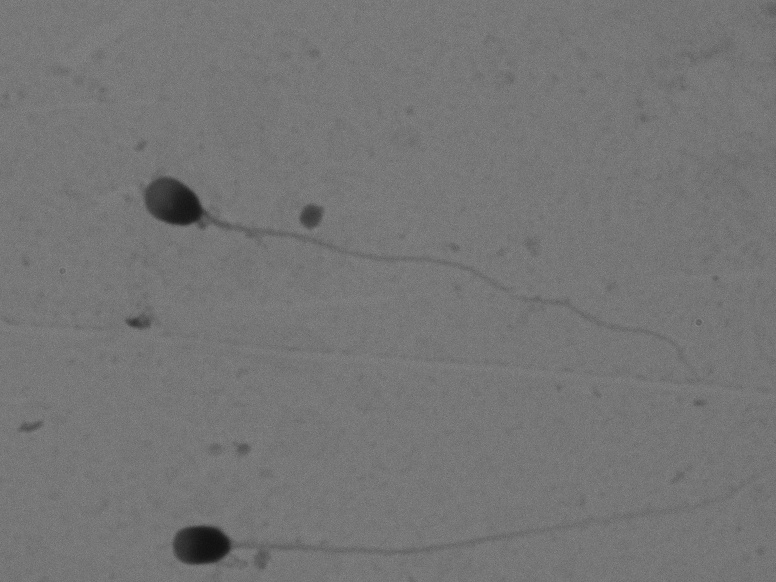Abnormal: (114, 157, 720, 410)
Normal: (134, 470, 763, 575)
